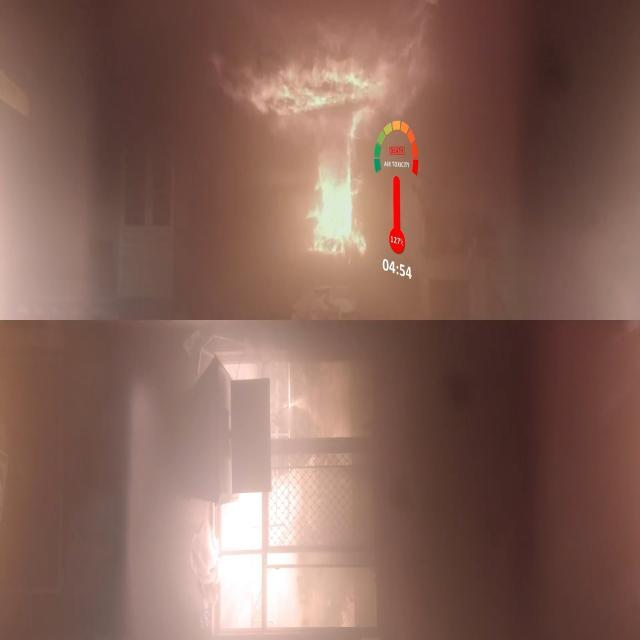Fire: (208, 8, 446, 300)
